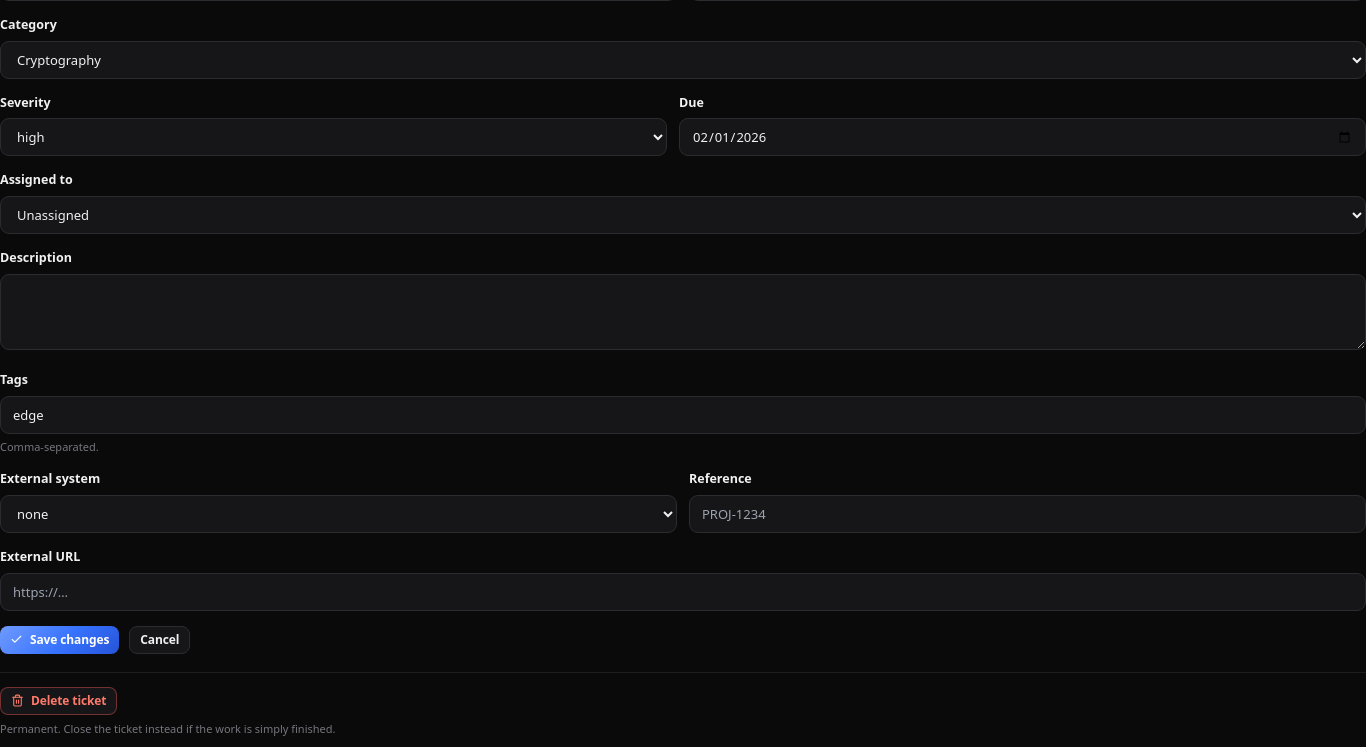
Test: deleting a ticket › explains what happens to a linked alert, and only when there is one
(page scrolled)
Click the button "Delete ticket": (59, 701) top-left (0, 687), bottom-right (117, 715)
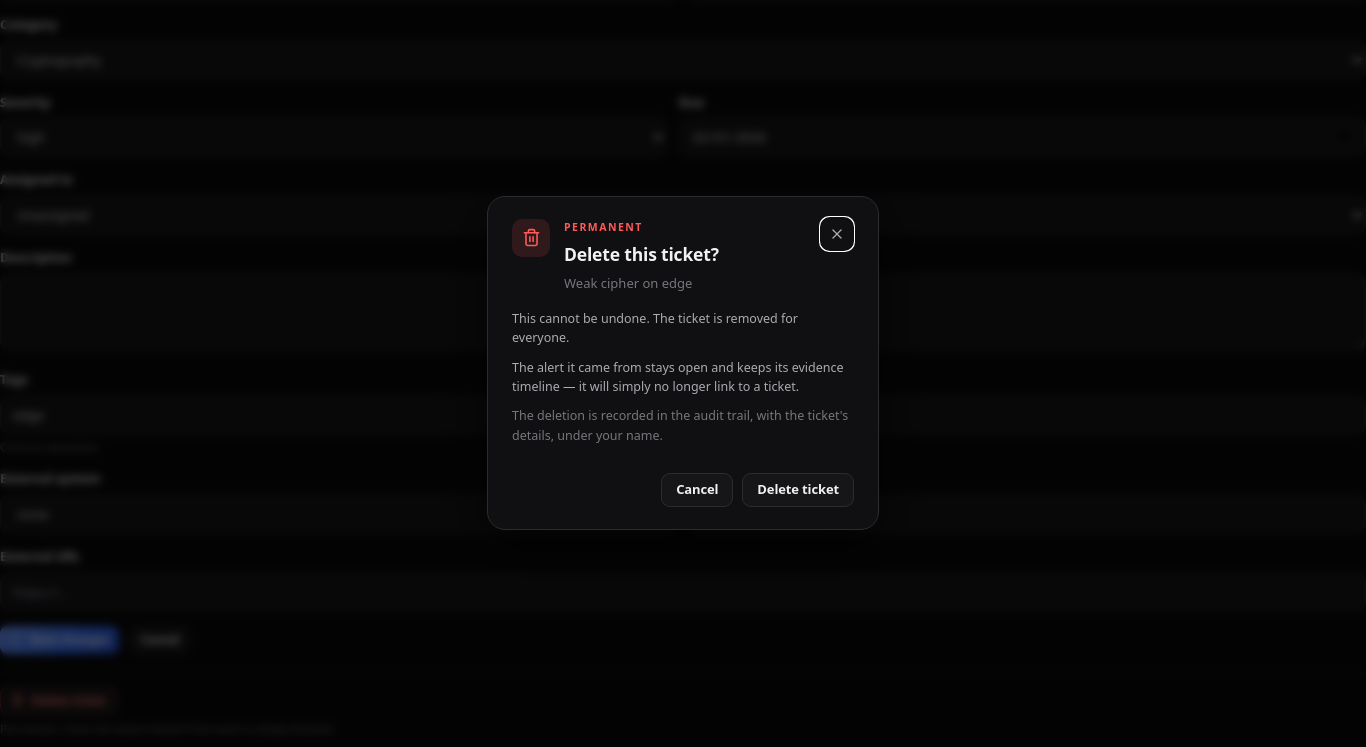
expect the text "alert it came from stays open" is shown: met, box top-left (512, 359), bottom-right (844, 395)
